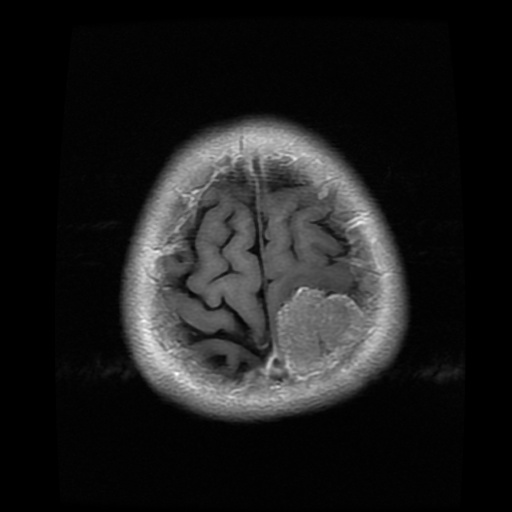meningioma: (275, 285, 365, 377)
